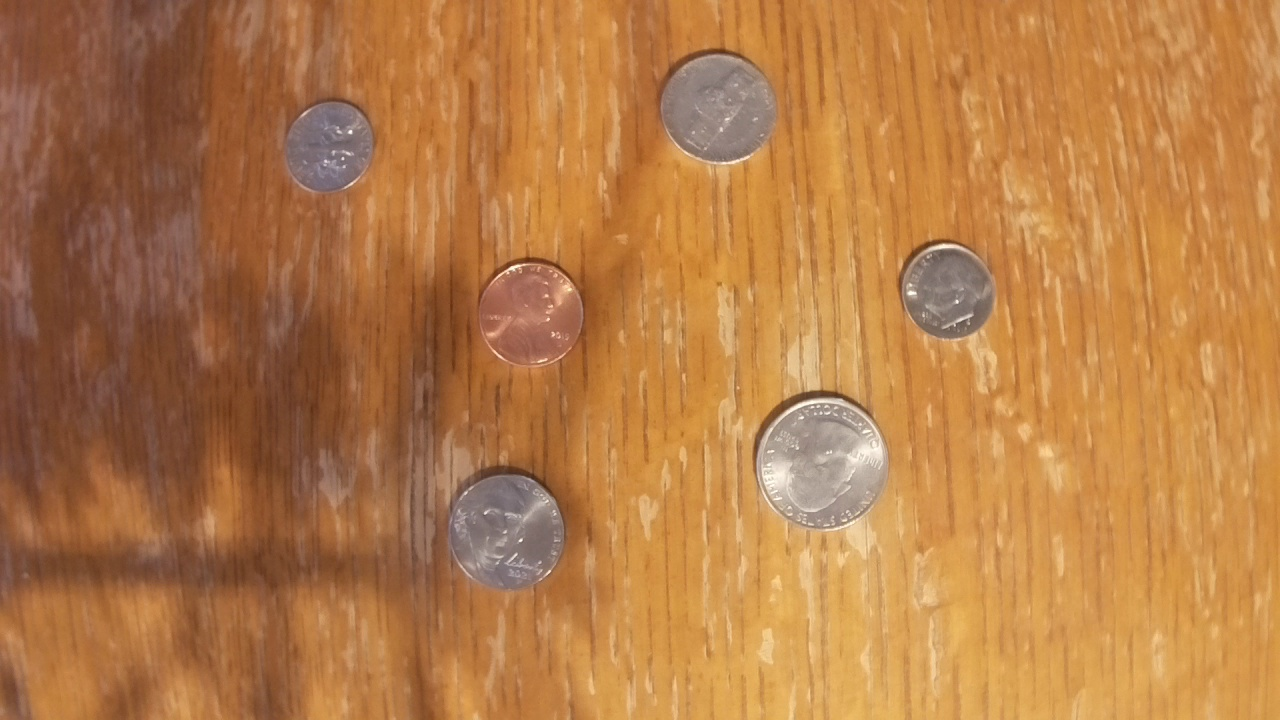dime: (899, 238, 998, 340), (283, 99, 375, 192)
nickel: (446, 472, 566, 593), (659, 51, 776, 164)
penny: (477, 260, 585, 368)
quarter: (753, 395, 889, 532)
